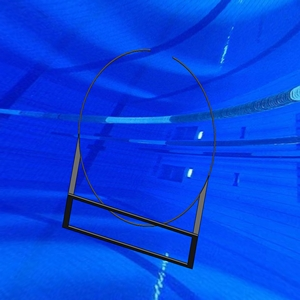circle: (62, 47, 217, 271)
